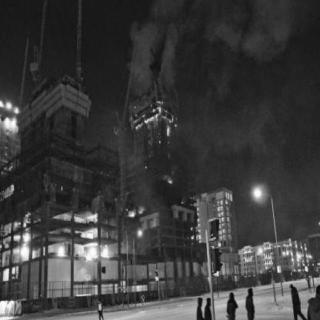Fire: (128, 81, 182, 152), (125, 203, 162, 221), (158, 167, 180, 186)
other: (5, 210, 132, 278), (0, 88, 26, 150), (247, 179, 273, 207), (214, 237, 226, 253), (137, 230, 151, 242), (94, 304, 104, 314)
